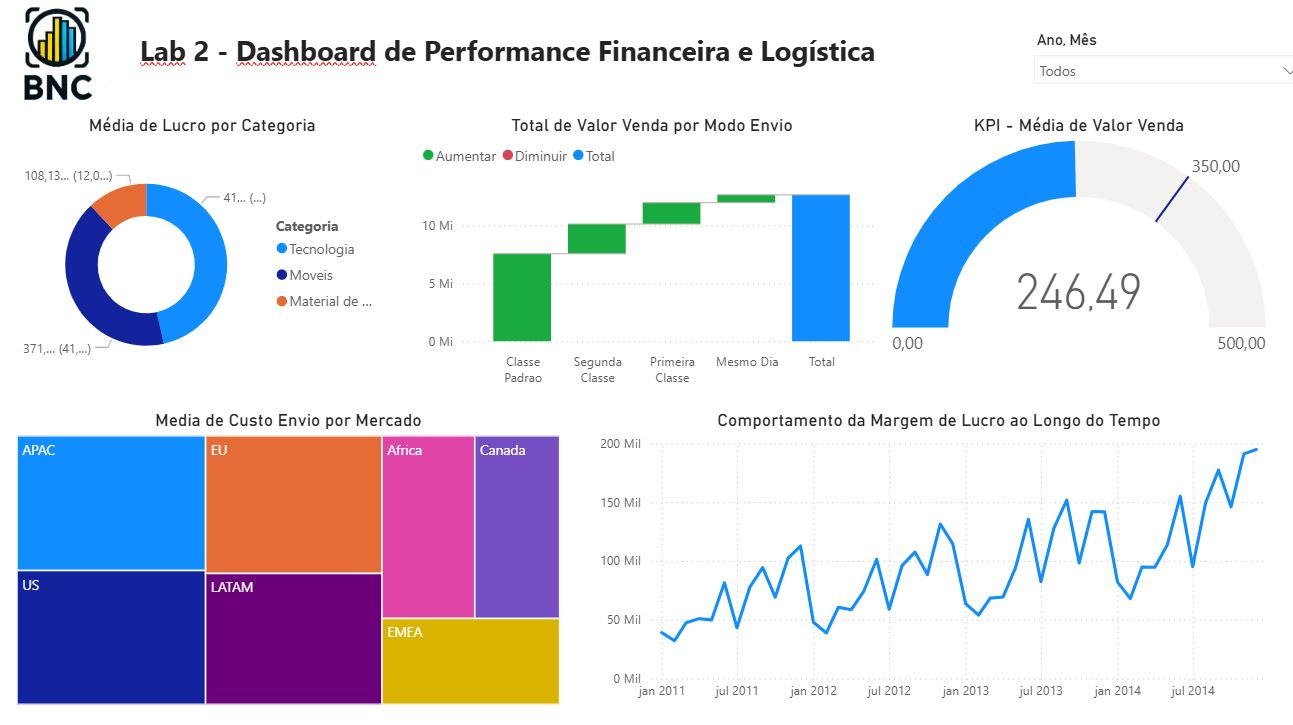

This screenshot's page, from the dashboard's own definition file:
{"tool":"powerbi","page":{"name":"Página 1","canvas":[1280,720],"ordinal":0},"visuals":[{"type":"waterfallChart","title":"Total de Valor Venda por Modo Envio","fields":{"Y":["Sum(Vendas.Valor Venda)"],"Category":["Pedidos.Modo Envio"]},"box":[415,117.5,453.8,270],"z":0},{"type":"treemap","title":"Media de Custo Envio por Mercado","fields":{"Values":["Avg(Vendas.Custo Envio)"],"Group":["Clientes.Mercado"]},"box":[23.8,401.2,533.8,290],"z":1000},{"type":"gauge","title":"KPI - Média de Valor Venda","fields":{"Y":["Avg(Vendas.Valor Venda)"]},"box":[856.2,117.5,395,242.5],"z":2000},{"type":"slicer","fields":{"Values":["Pedidos.Data Pedido.Variation.Hierarquia de datas.Ano","Pedidos.Data Pedido.Variation.Hierarquia de datas.Mês"]},"box":[1000,31.2,280,86.2],"z":3000},{"type":"donutChart","fields":{"Y":["Avg(Vendas.Lucro)"],"Category":["Produtos.Categoria"]},"box":[23.8,117.5,367.5,270],"z":4000},{"type":"lineChart","title":"Comportamento da  Margem de Lucro ao Longo do Tempo","fields":{"Y":["Sum(Vendas.Margem de lucro)"],"Category":["Pedidos.Data Pedido.Variation.Hierarquia de datas.Ano","Pedidos.Data Pedido.Variation.Hierarquia de datas.Trimestre","Pedidos.Data Pedido.Variation.Hierarquia de datas.Mês","Pedidos.Data Pedido.Variation.Hierarquia de datas.Dia"]},"box":[586.2,401.2,665,290],"z":5000},{"type":"textbox","box":[142.4,14.5,780.6,86.9],"z":6000},{"type":"image","box":[12.1,8.4,115.8,100.1],"z":7000}]}

Visuals, with their boxes in screenshot pixels (x1, y1, x2, y2), scaled from the page's 1280x720 canvas onto the 1293x725 screenshot:
"Total de Valor Venda por Modo Envio" waterfallChart: Rect(419, 118, 878, 390)
"Media de Custo Envio por Mercado" treemap: Rect(24, 404, 563, 696)
"KPI - Média de Valor Venda" gauge: Rect(865, 118, 1264, 362)
slicer - Pedidos.Data Pedido.Variation.Hierarquia de datas.Ano x Pedidos.Data Pedido.Variation.Hierarquia de datas.Mês: Rect(1010, 31, 1292, 118)
donutChart - Avg(Vendas.Lucro) x Produtos.Categoria: Rect(24, 118, 395, 390)
"Comportamento da  Margem de Lucro ao Longo do Tempo" lineChart: Rect(592, 404, 1264, 696)
textbox: Rect(144, 15, 932, 102)
image: Rect(12, 8, 129, 109)
